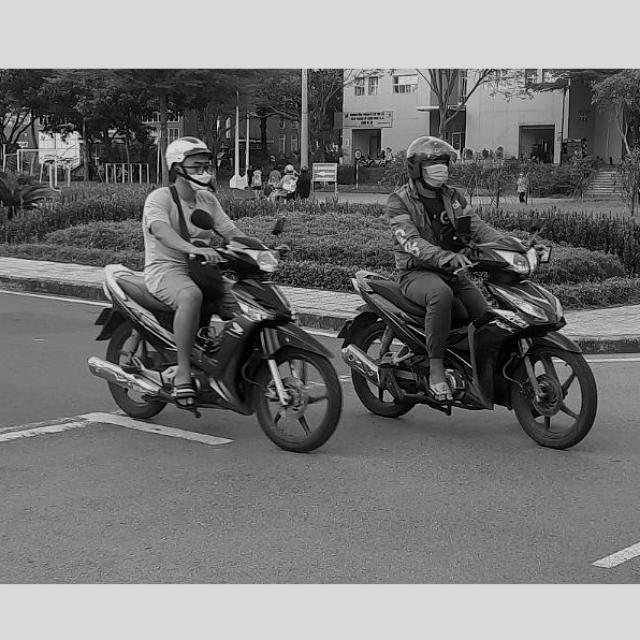Helmet: (402, 132, 460, 190), (163, 133, 219, 191)
